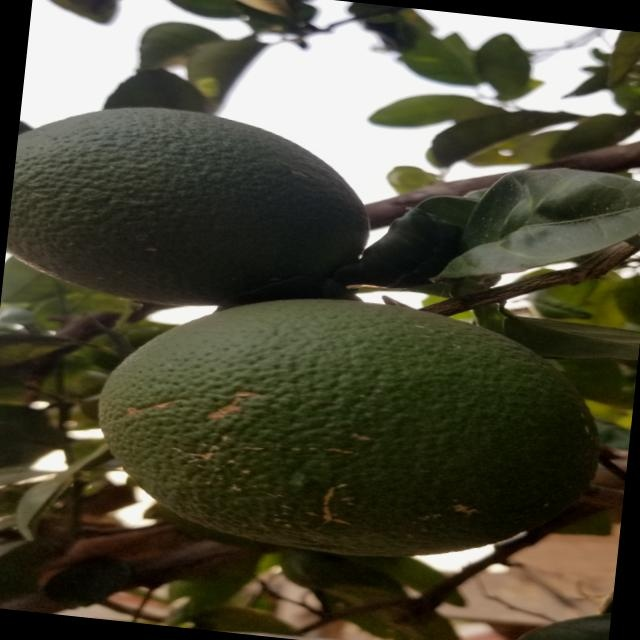agrume: (91, 267, 629, 580), (2, 93, 363, 318)
